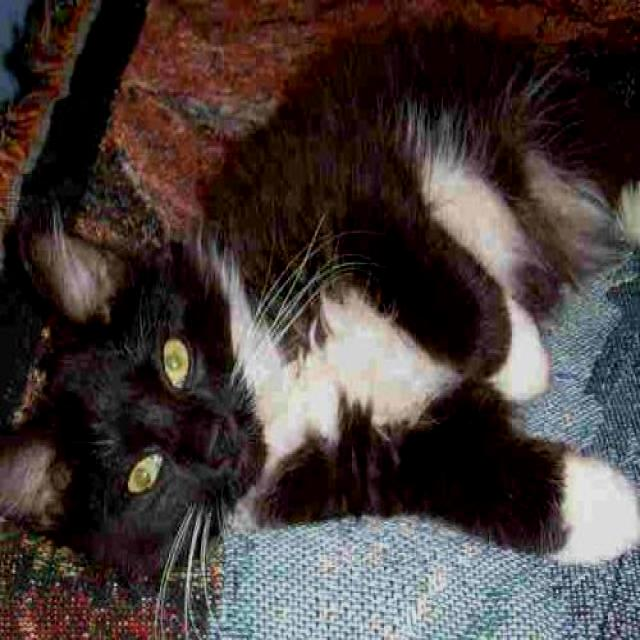Kucing: (19, 174, 640, 600)
